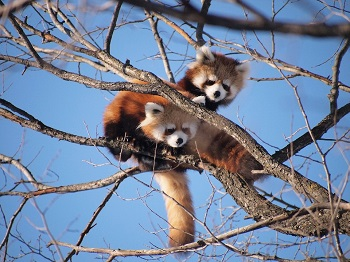red_panda: (101, 56, 236, 246), (140, 101, 276, 183)
